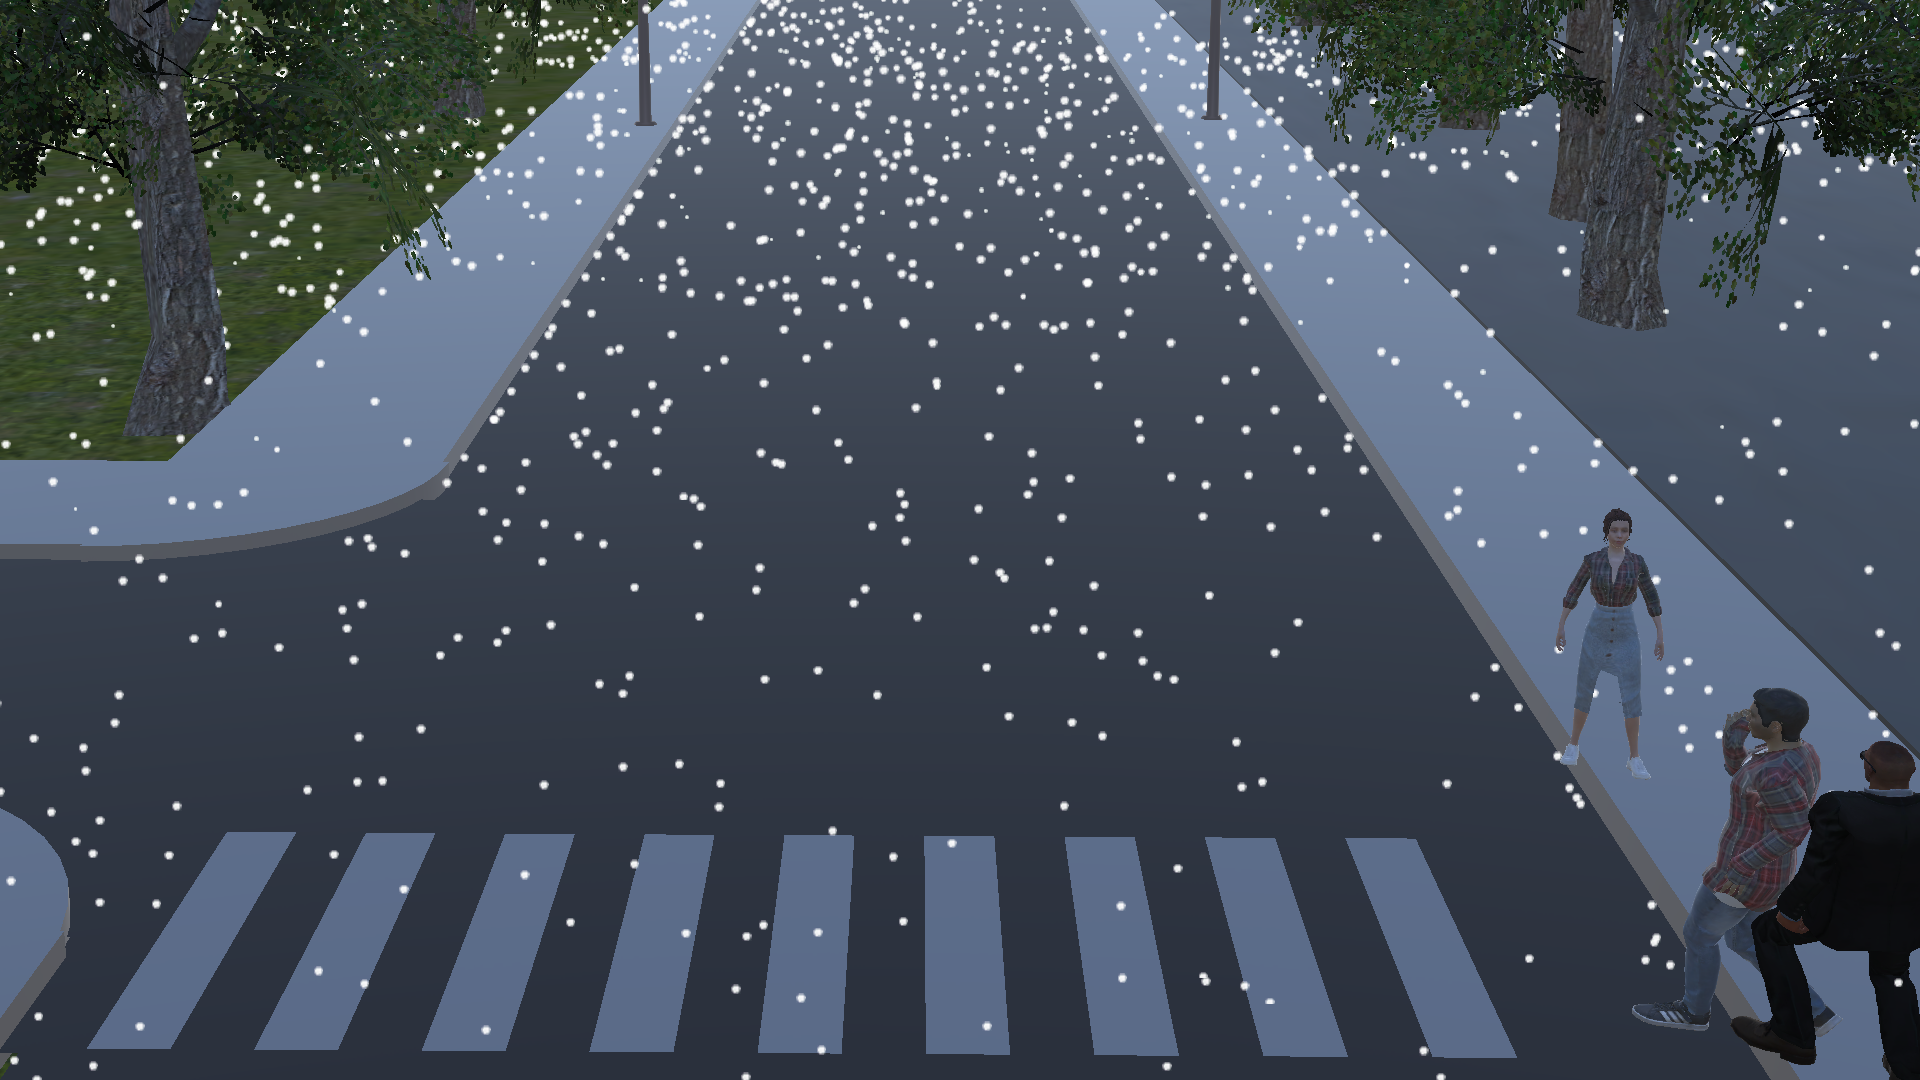pedestrian: (1634, 674, 1805, 1045), (1746, 730, 1906, 1080), (1546, 496, 1667, 796)
